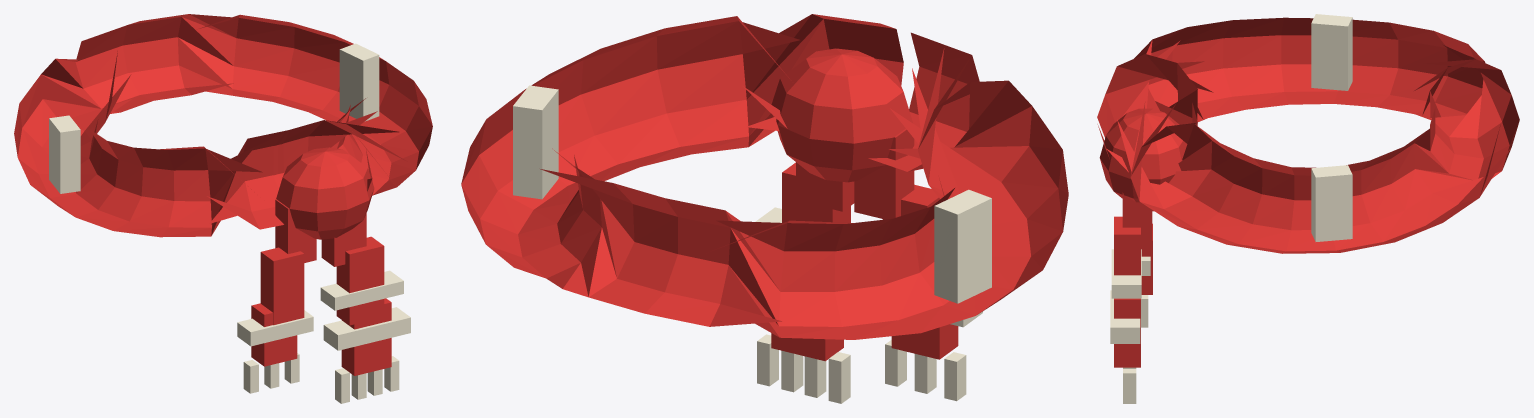
File: f-halsduk-cc0.glb
The picture shows the model from 3 angles, left to right: view 1: azimuth 30°, elevation 25°; view 2: azimuth 150°, elevation 25°; view 3: azimuth 270°, elevation 25°; orthographic projection. The views are drawn at different scales.
Parts seen in each view (by area): view 1: Halsduk_Stickad; view 2: Halsduk_Stickad; view 3: Halsduk_Stickad.
Boxes of the visible parts, <box> form: Halsduk_Stickad: <box>14,14,432,403</box>; Halsduk_Stickad: <box>461,14,1068,403</box>; Halsduk_Stickad: <box>1097,14,1519,403</box>.
Size of the model in its own units: 0.5902 by 0.4165 by 0.5634.
